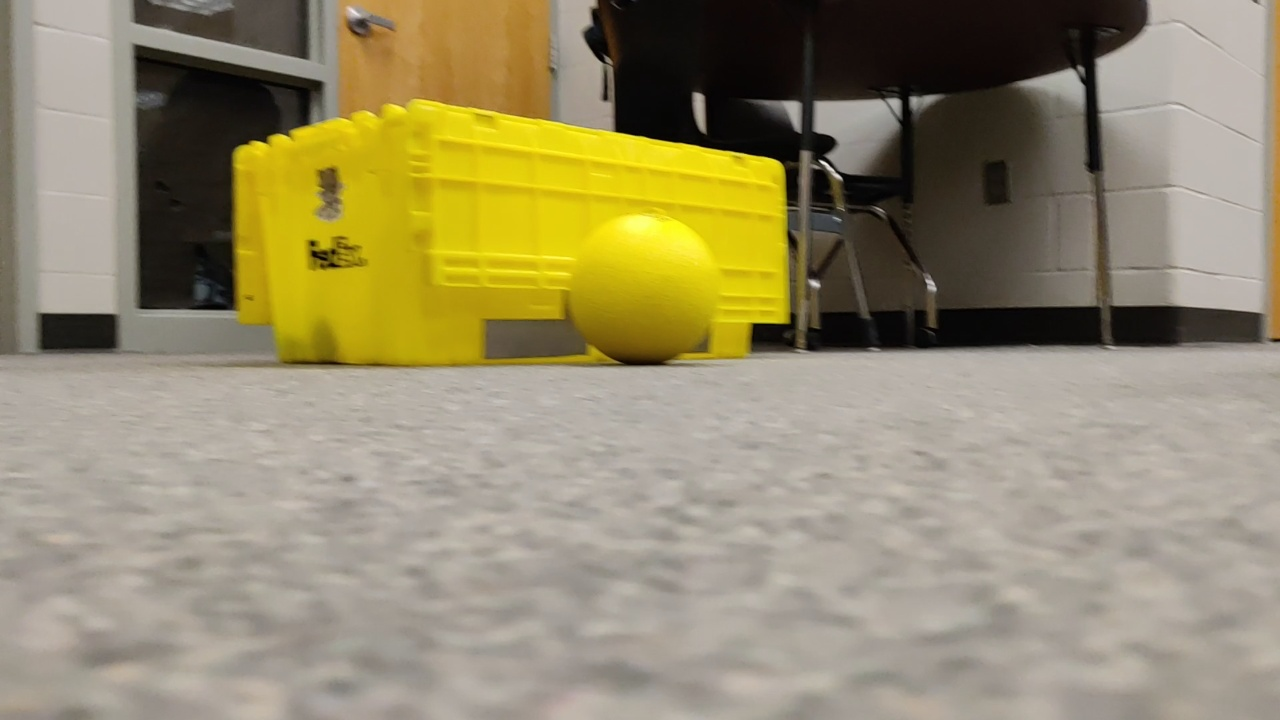Ball: (572, 215, 725, 378)
